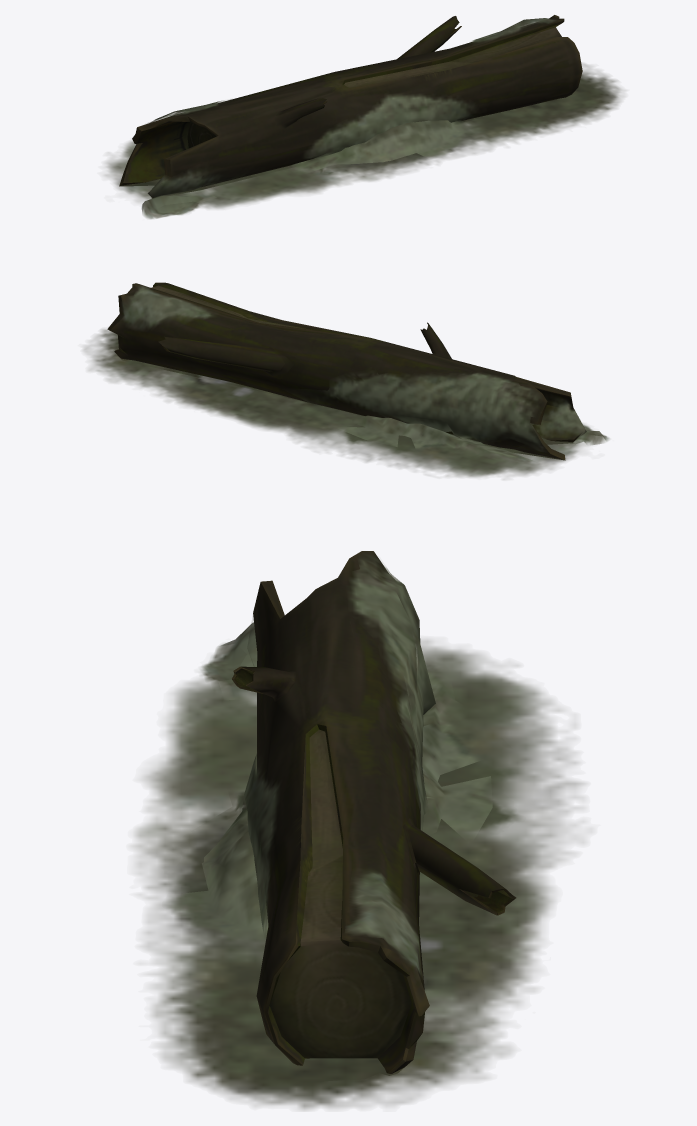
3 renders of one model, top to bottom at view 1: azimuth 30°, elevation 25°; view 2: azimuth 150°, elevation 25°; view 3: azimuth 270°, elevation 25°, orthographic. The views are drawn at different scales.
Parts seen in each view (by area): view 1: plants_lying_snag_a-0-snag, plants_lying_snag_a-1-underlay, plants_lying_snag_a-2-underlay; view 2: plants_lying_snag_a-0-snag, plants_lying_snag_a-2-underlay, plants_lying_snag_a-1-underlay; view 3: plants_lying_snag_a-1-underlay, plants_lying_snag_a-0-snag, plants_lying_snag_a-2-underlay.
Part boxes in pixels (x1,y1,x2,y2): plants_lying_snag_a-0-snag: (119,15,582,198); plants_lying_snag_a-1-underlay: (104,63,623,208); plants_lying_snag_a-2-underlay: (141,18,556,219); plants_lying_snag_a-0-snag: (107,282,581,460); plants_lying_snag_a-2-underlay: (121,285,609,463); plants_lying_snag_a-1-underlay: (83,329,590,477); plants_lying_snag_a-1-underlay: (133,640,583,1110); plants_lying_snag_a-0-snag: (232,551,516,1073); plants_lying_snag_a-2-underlay: (166,553,518,979).
Size of the model in its own units: 5.39 by 0.804 by 2.7.
Materials: 2 (2 with a texture image).
